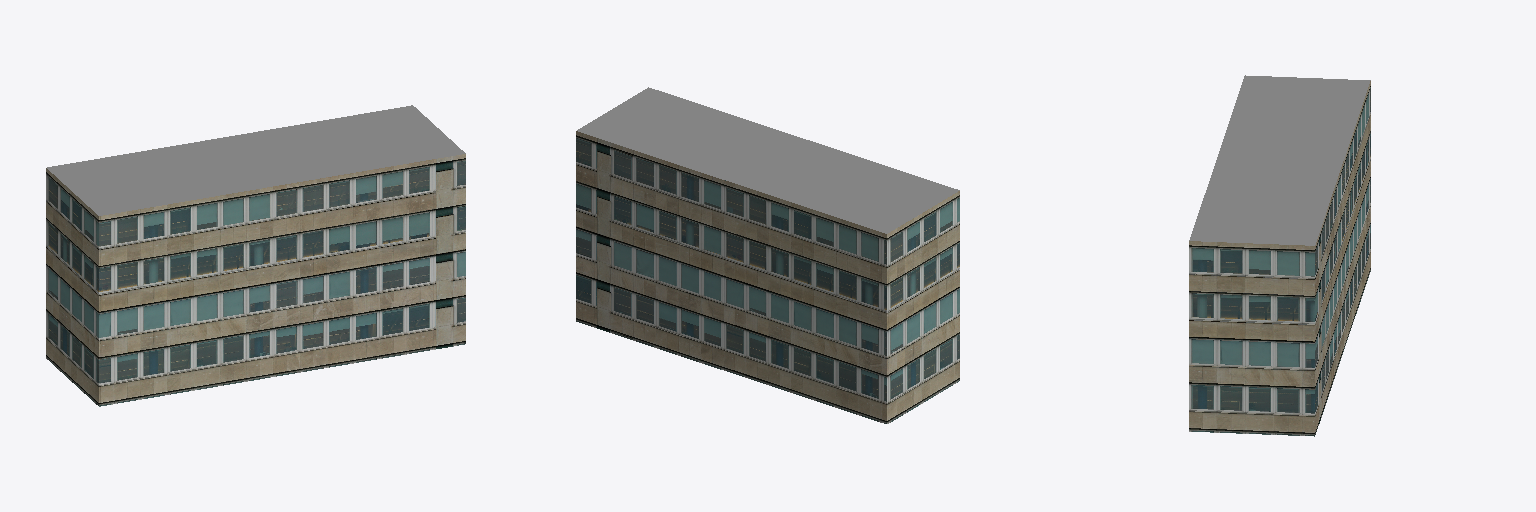
3 views of the same model, side by side, from view 1: azimuth 30°, elevation 25°; view 2: azimuth 150°, elevation 25°; view 3: azimuth 270°, elevation 25° (orthographic).
Parts seen in each view (by area): view 1: JZ_JX_08; view 2: JZ_JX_08; view 3: JZ_JX_08.
Part boxes in pixels (left/top/right/bottom): JZ_JX_08: left=46, top=105, right=465, bottom=406; JZ_JX_08: left=576, top=87, right=959, bottom=423; JZ_JX_08: left=1189, top=75, right=1370, bottom=436.
Size of the model in its own units: 6003 by 3131 by 2703.
2 materials, 1 textured.